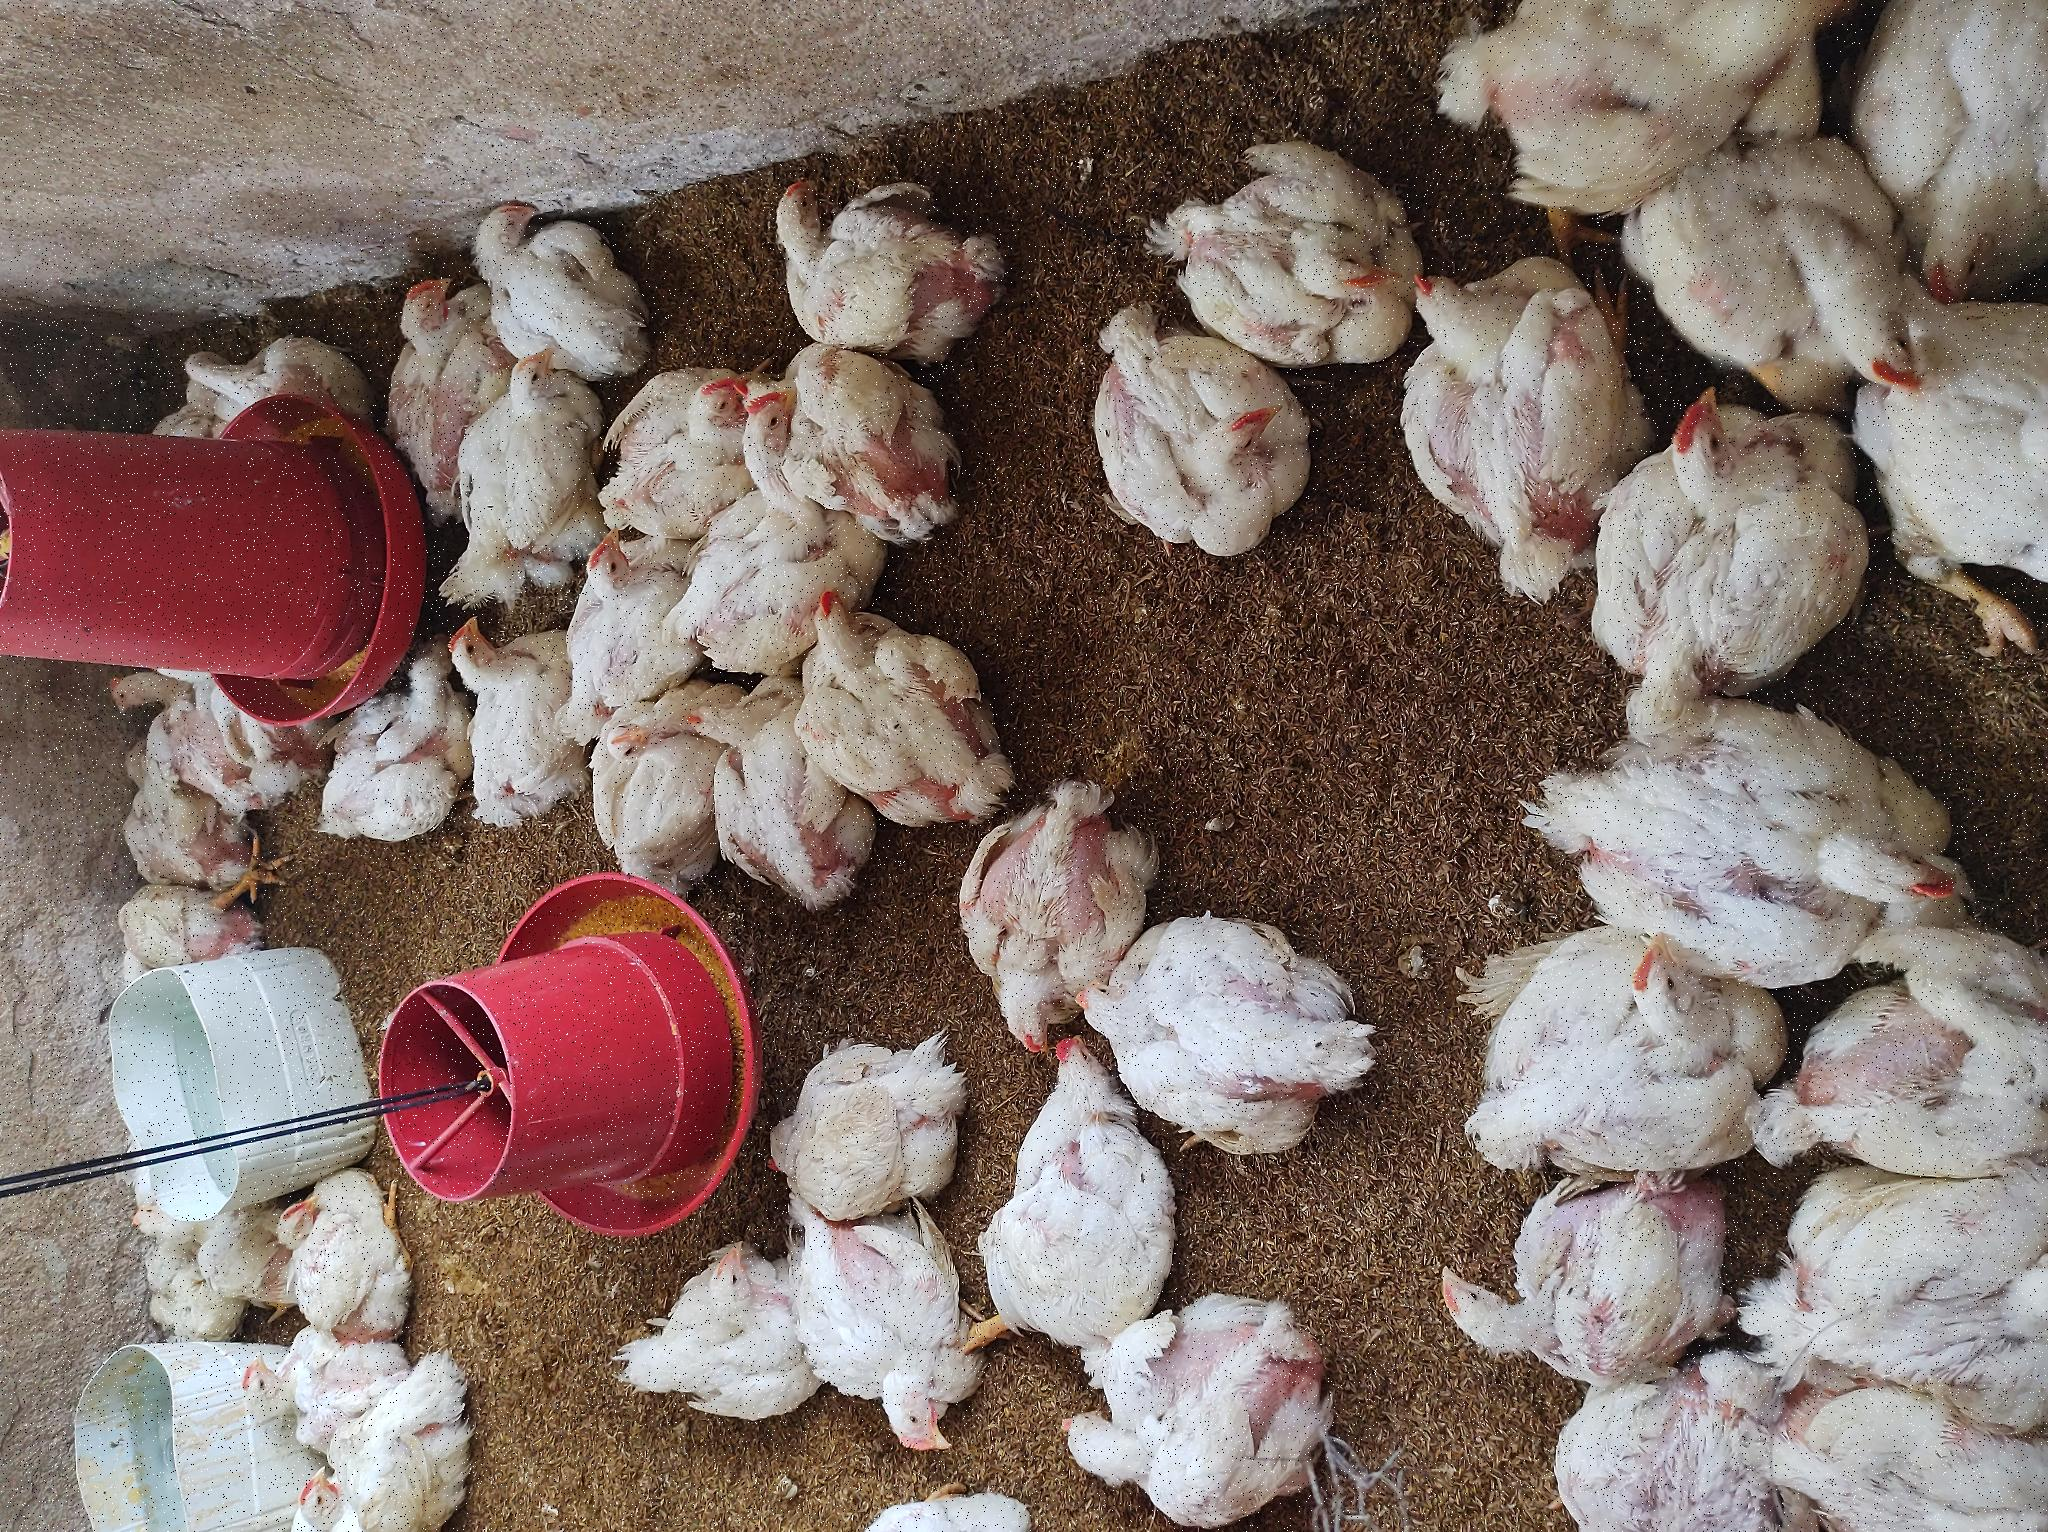Pollos: (381, 1101, 650, 1379), (3, 1065, 228, 1321), (179, 980, 462, 1176), (1162, 1146, 1409, 1369), (933, 1110, 1211, 1308), (698, 800, 948, 1020), (314, 742, 515, 983), (489, 957, 753, 1141), (943, 1402, 1302, 1532), (84, 800, 304, 1011), (1197, 755, 1369, 1022), (116, 589, 307, 800), (1001, 764, 1179, 986), (639, 682, 846, 855), (965, 452, 1182, 610), (1171, 460, 1340, 657), (681, 315, 875, 463), (711, 447, 936, 571), (2, 291, 135, 480), (1005, 599, 1170, 745), (1054, 381, 1297, 480), (655, 108, 783, 290), (217, 282, 364, 428), (1104, 174, 1210, 349), (88, 241, 211, 389), (143, 1452, 367, 1532), (557, 108, 656, 280), (853, 541, 980, 673), (1369, 1442, 1533, 1532), (669, 597, 833, 687), (817, 101, 912, 195), (1059, 731, 1147, 817), (275, 126, 373, 203)
